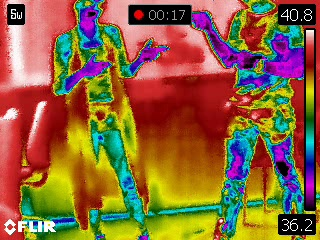human: (49, 1, 170, 239), (192, 4, 307, 239)
